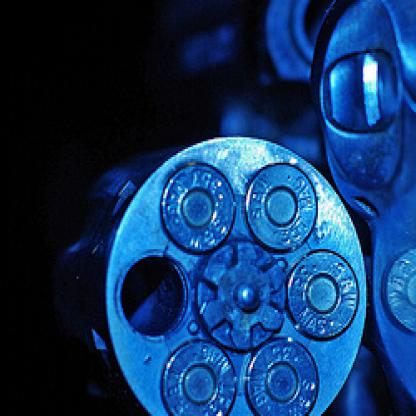gun: (78, 0, 414, 414)
